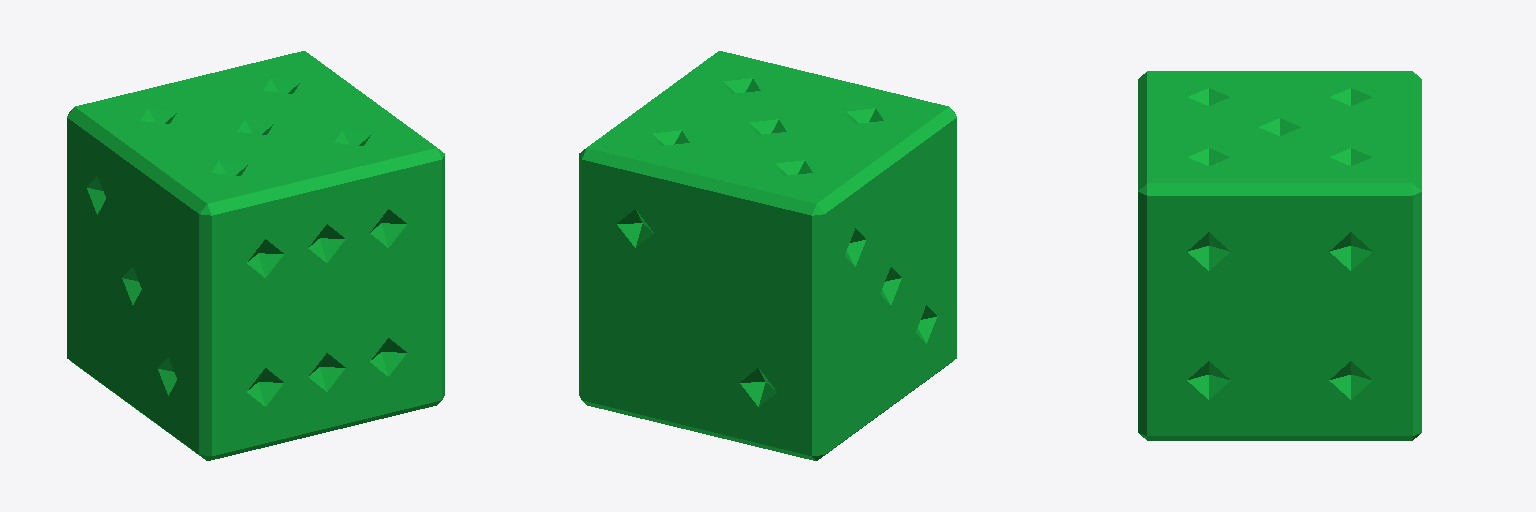
The model's file is Dice.obj.
3 views of the same model, side by side, from view 1: azimuth 30°, elevation 25°; view 2: azimuth 150°, elevation 25°; view 3: azimuth 270°, elevation 25° (orthographic).
Visible parts, largest first — view 1: Object.1; view 2: Object.1; view 3: Object.1.
Boxes of the visible parts, x1,y1,x2,y2 form: Object.1: [67, 51, 444, 460]; Object.1: [579, 51, 956, 460]; Object.1: [1138, 71, 1421, 440].
Size of the model in its own units: 1 by 1 by 0.9999.